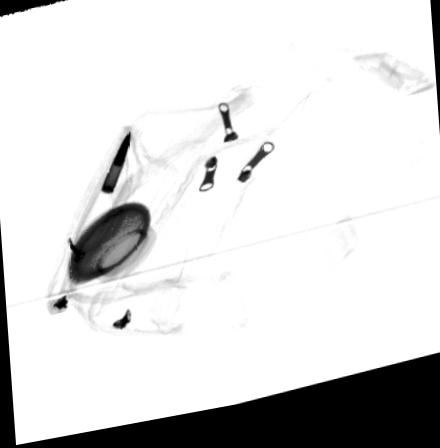Bullet: (99, 131, 131, 197)
